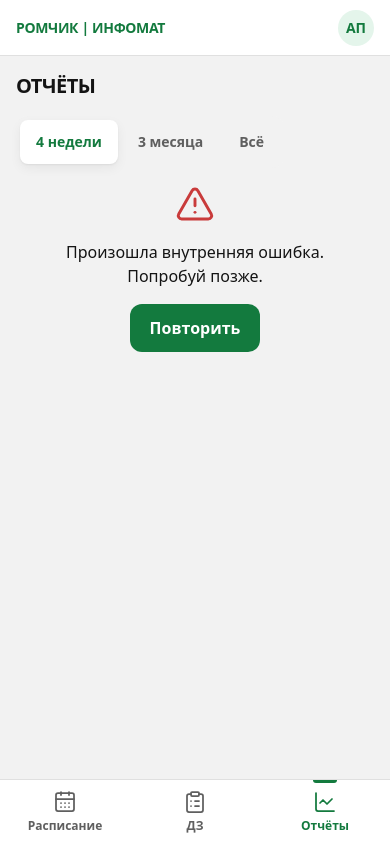
Test: Отчёты ученика › ошибка сервера: текст по коду и «Повторить» возвращает данные
The width and height of the screenshot is (390, 844).
expect the message shows "Произошла внутренняя ошибка. Попробуй позже.": met, box 66,241 -> 324,287
Click the button "Повторить": x=195, y=328 130,304 -> 260,352
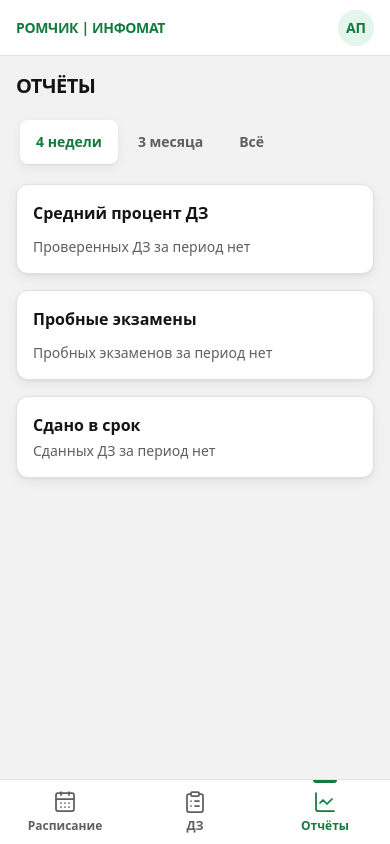
expect the text "Проверенных ДЗ за период нет" is shown: met, box 33,237 -> 250,256
expect the message "Произошла внутренняя ошибка. Попробуй позже. Повторить" is gone: met
